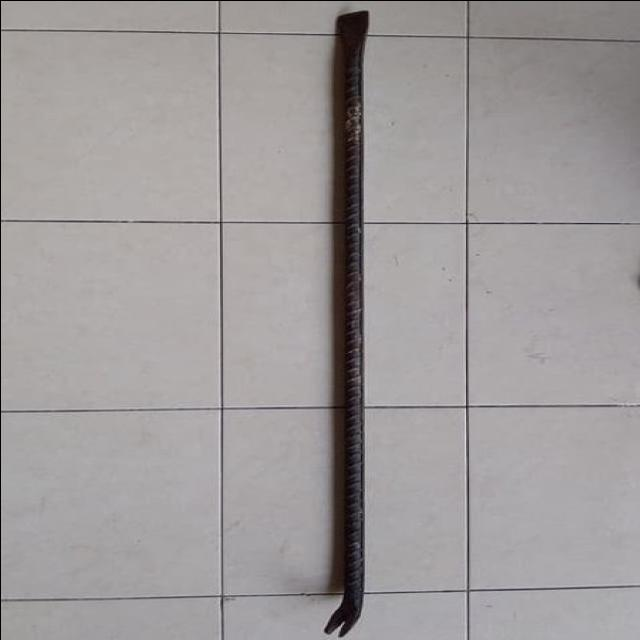Linggis: (310, 11, 381, 637)
